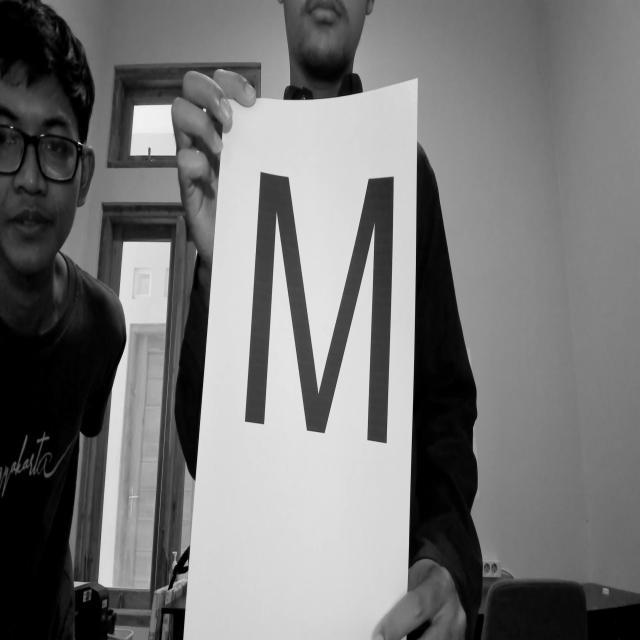m: (234, 148, 438, 525)
